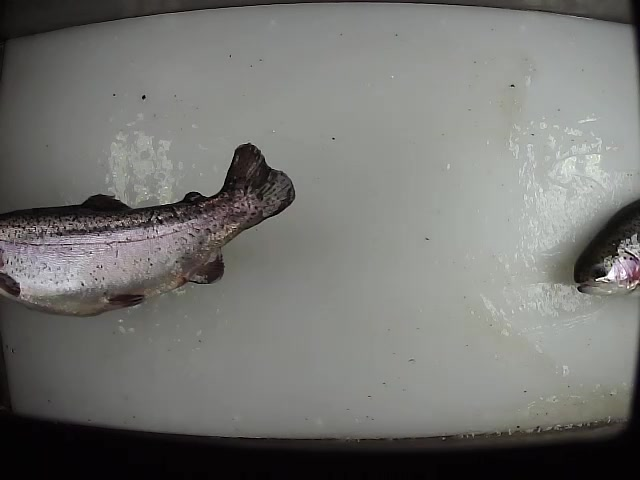fish: (1, 140, 300, 323), (571, 194, 640, 297)
